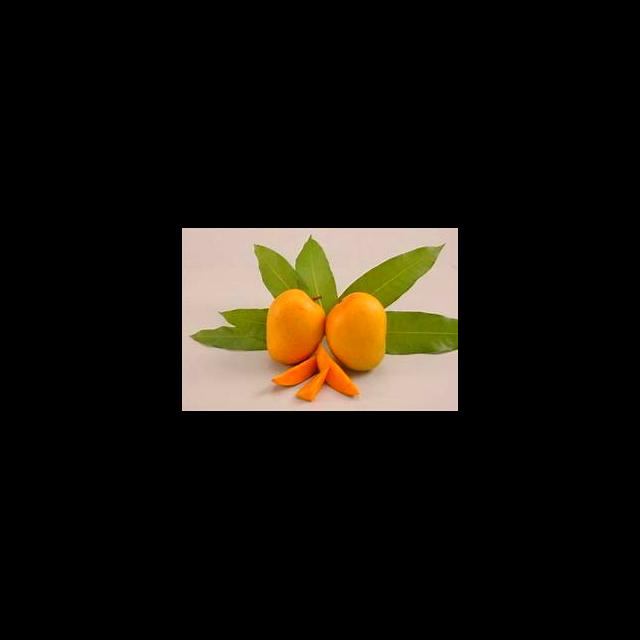mango: (323, 292, 387, 374), (265, 288, 327, 366)
